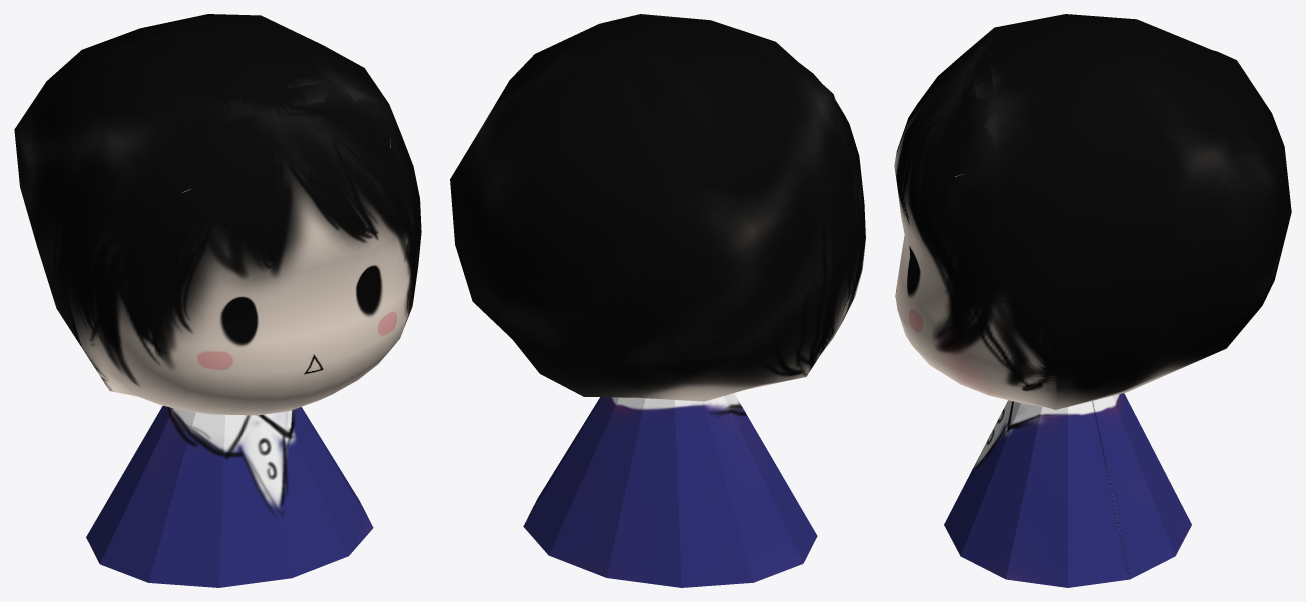
File: little_guy.fbx
3 views of the same model, side by side, from view 1: azimuth 30°, elevation 25°; view 2: azimuth 150°, elevation 25°; view 3: azimuth 270°, elevation 25° (orthographic). The views are drawn at different scales.
Visible parts, largest first — view 1: face, guy_cloth; view 2: face, guy_cloth; view 3: face, guy_cloth.
Boxes of the visible parts, box(x1,y1,x2,y2) form: face: box(14, 14, 421, 415); guy_cloth: box(86, 405, 373, 587); face: box(450, 14, 865, 401); guy_cloth: box(523, 393, 817, 587); face: box(894, 14, 1291, 409); guy_cloth: box(944, 393, 1191, 587).
Size of the model in its own units: 4.93 by 6.83 by 5.04.
Materials: 2 (2 with a texture image).
